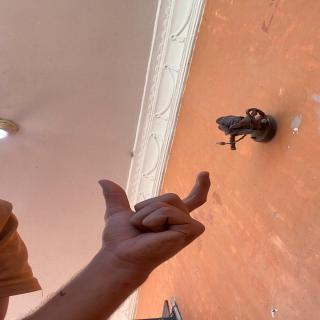NOON: (85, 166, 228, 262)
